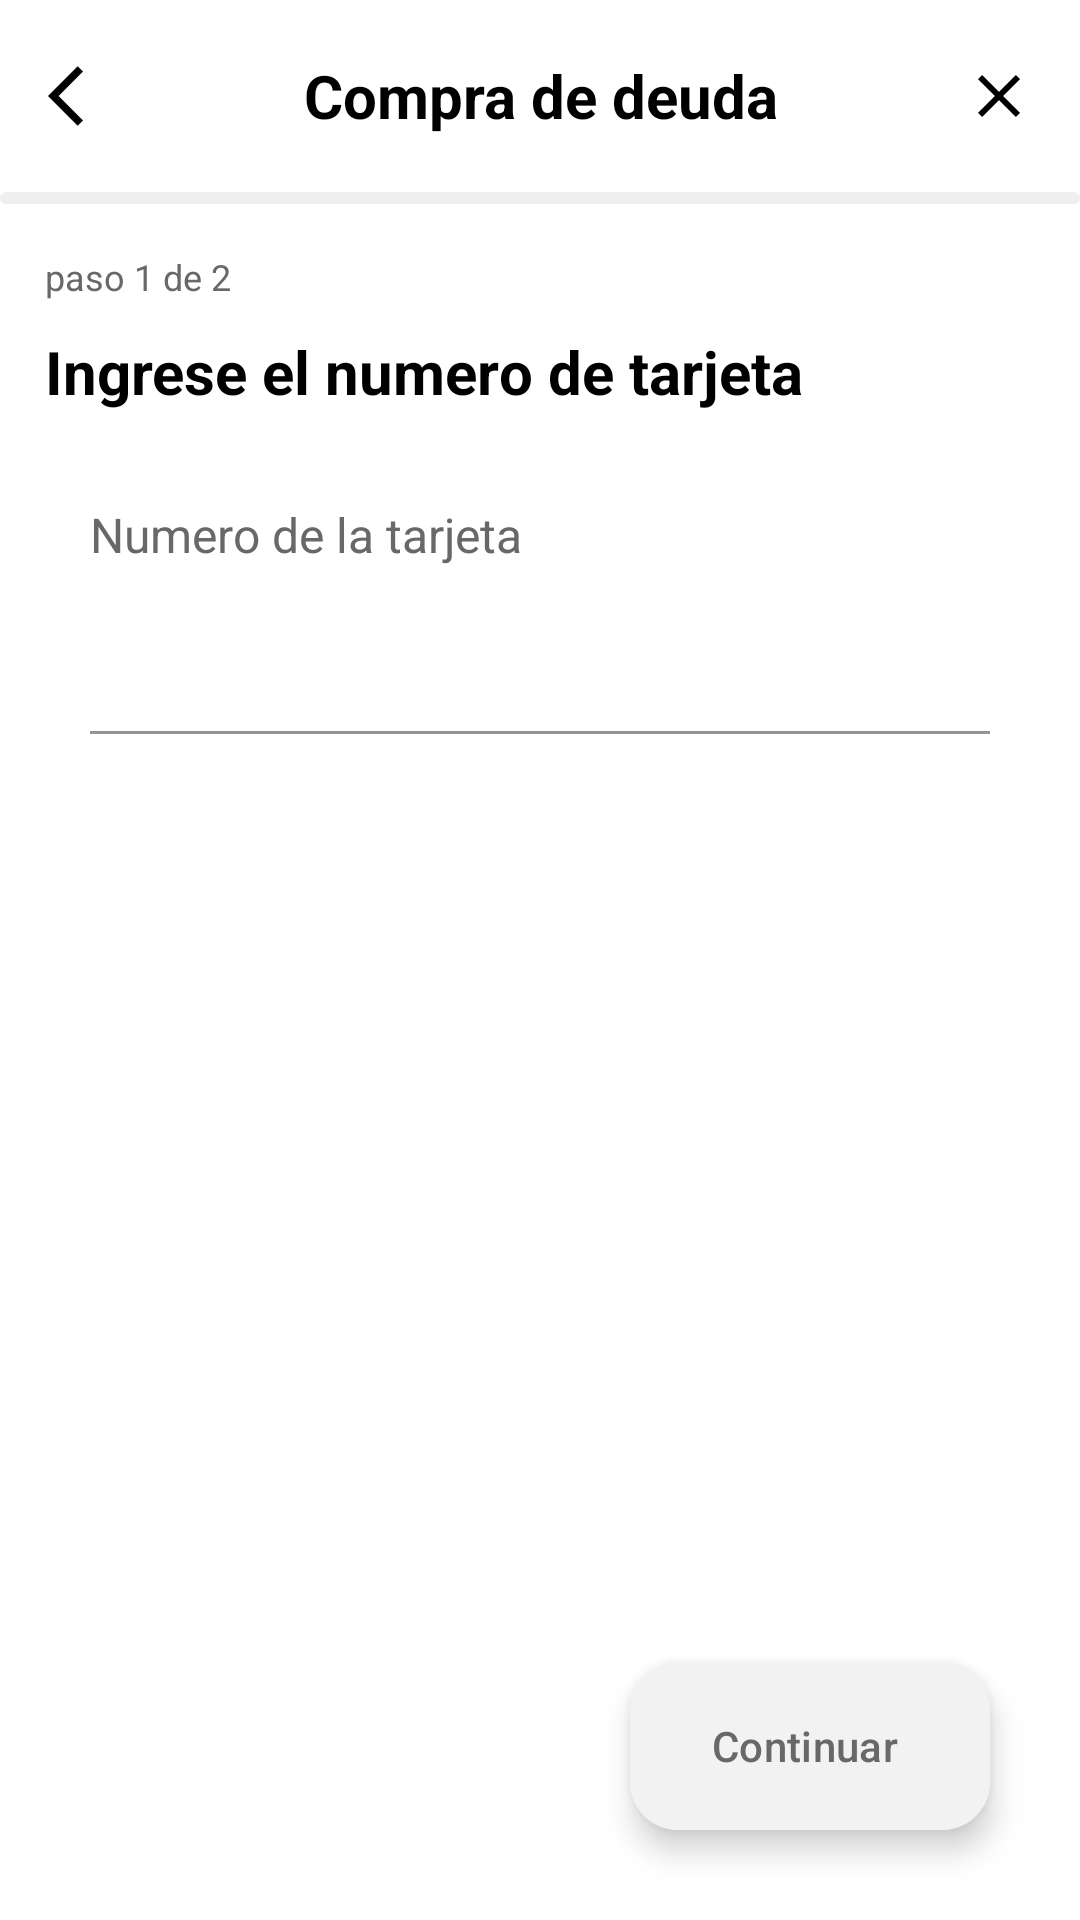

Where to tap for icons on this 1080 × 1920 app screen, as [x,y]:
arrow back: [65,96]
close: [999,96]
